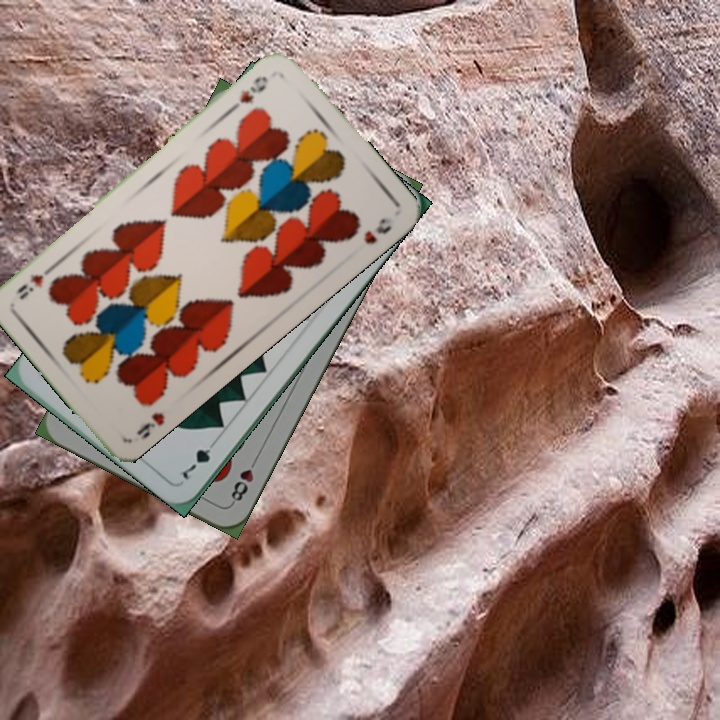G7: (178, 434, 221, 483)
H8: (226, 452, 261, 507)
H9: (132, 408, 168, 443), (236, 72, 272, 106)
